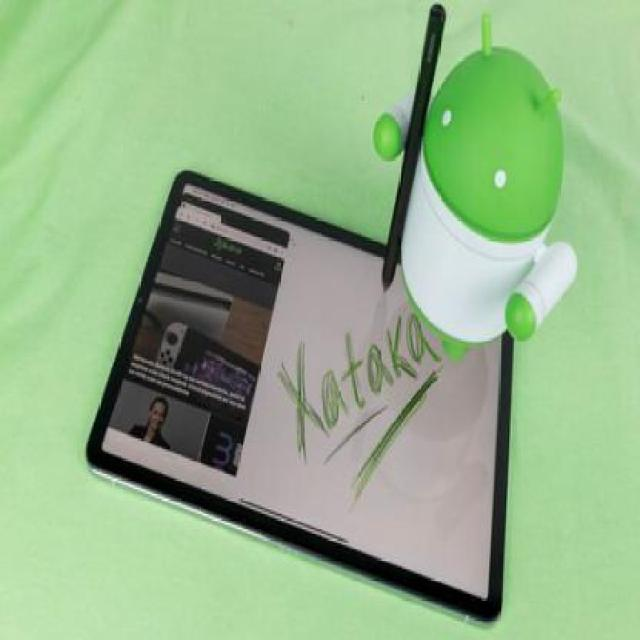tablet: (65, 180, 576, 580)
